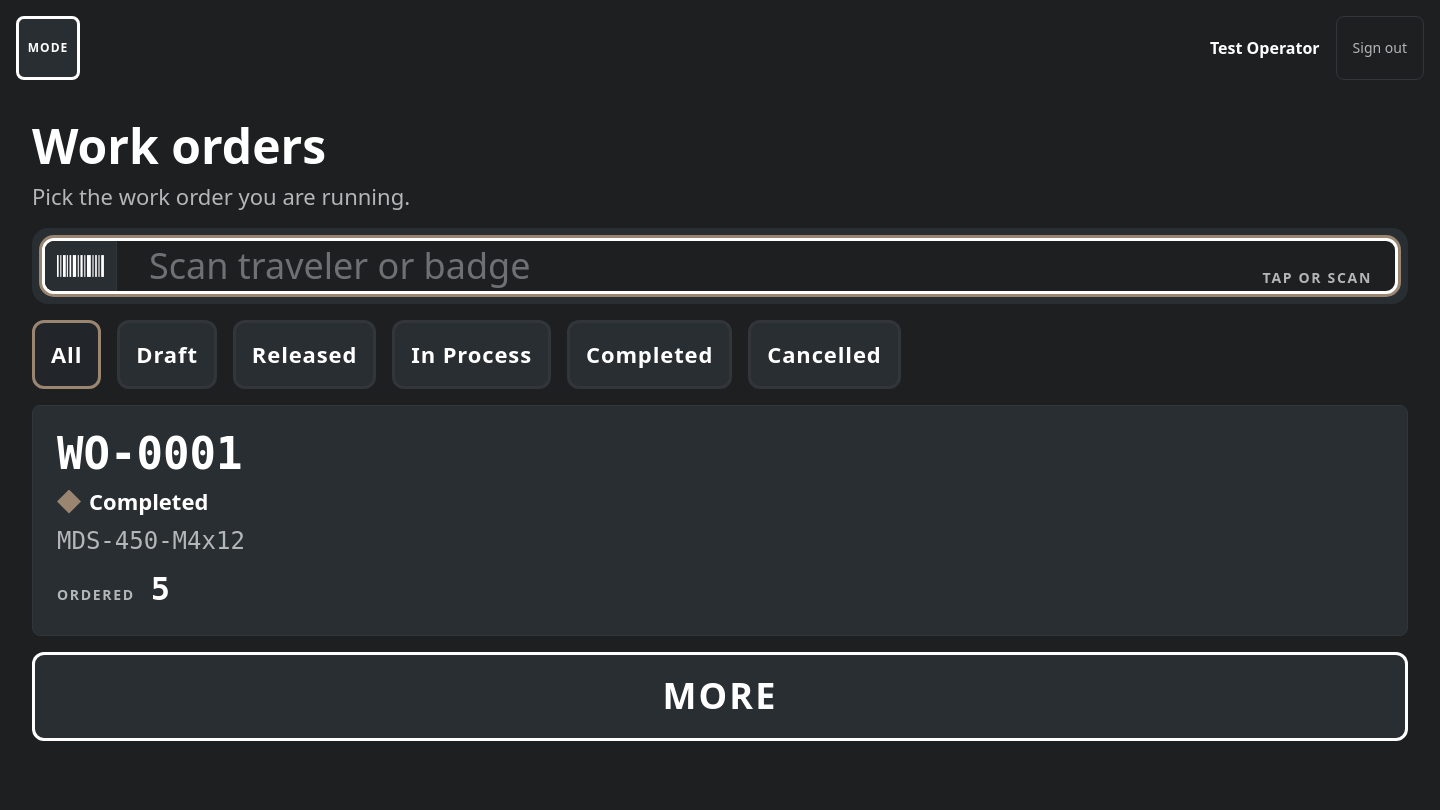
floor work-order pick list › honours the list cursor when MORE is pressed
Expected: the text "WO-0001" is shown, [57,428,242,479]
Click the button "MORE".
click(720, 697)  # box [32,652,1408,741]
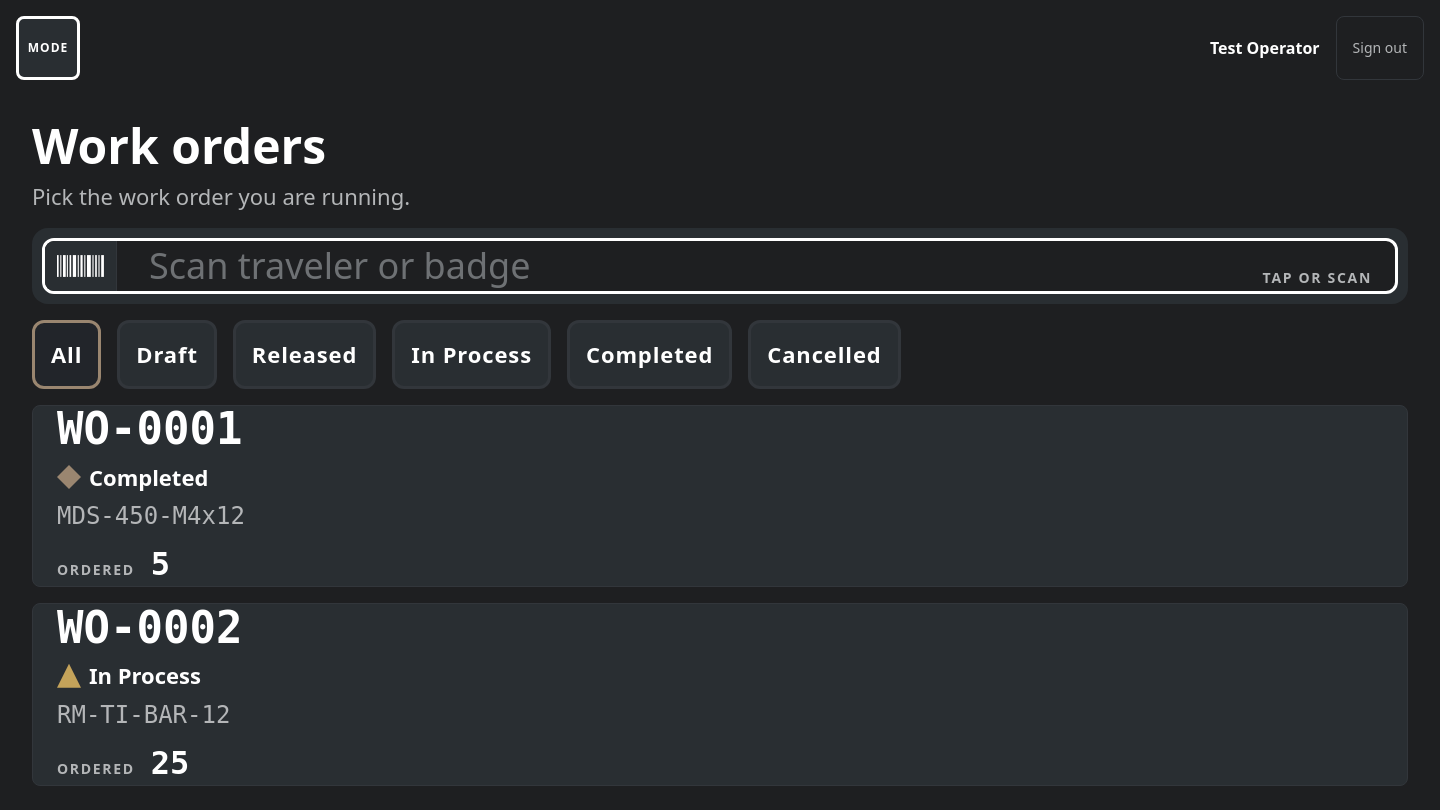
Now the text "WO-0002" is shown, box [57,602,242,653]
Now the text "RM-TI-BAR-12" is shown, box [57,701,230,729]
